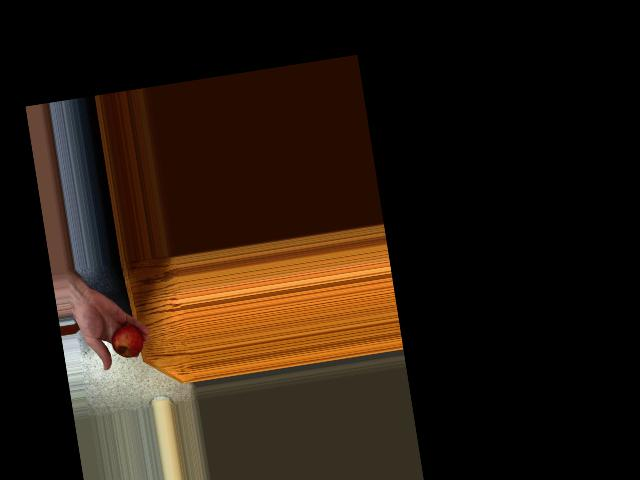apple: (105, 318, 145, 361)
